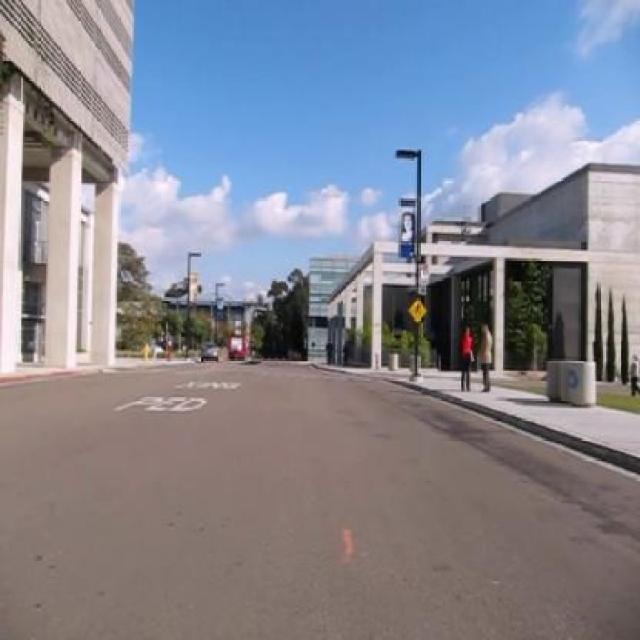pedestrianCrossing: (408, 297, 428, 326)
